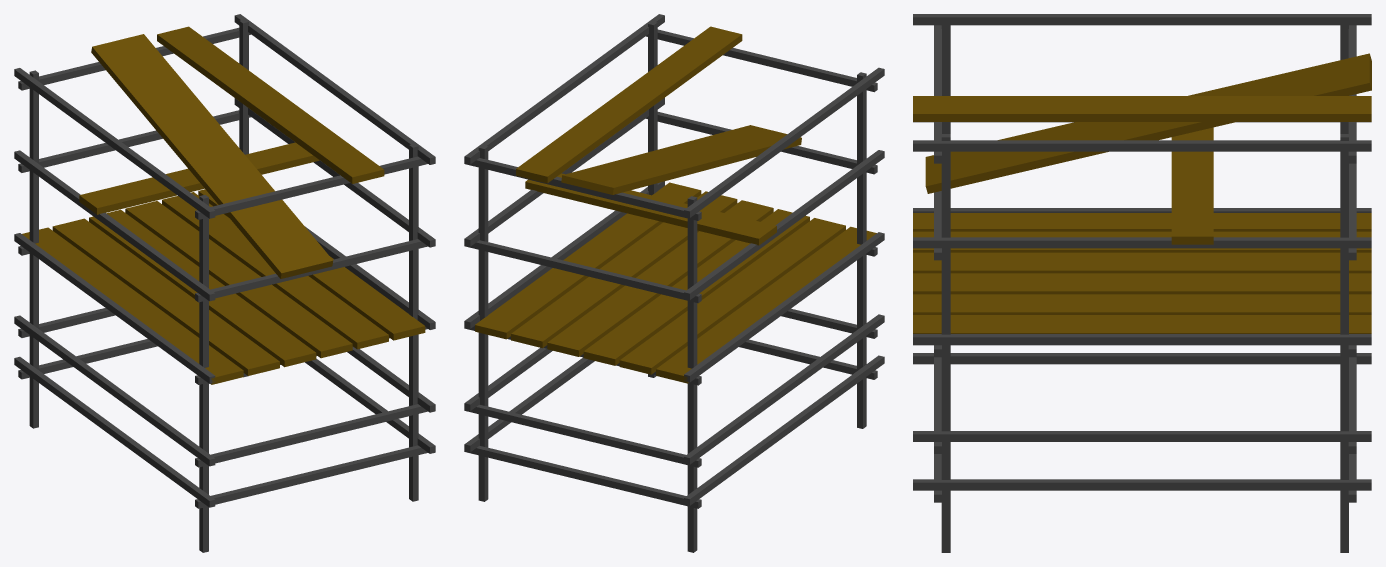
The model's file is ConstructionSite.fbx.
3 views of the same model, side by side, from view 1: azimuth 30°, elevation 25°; view 2: azimuth 150°, elevation 25°; view 3: azimuth 270°, elevation 25° (orthographic). The views are drawn at different scales.
Visible parts, largest first — view 1: pCube97, pCube103, pCube108, pCube106, pCube105, pCube107, pCube109, pCube98, pCube104, pCube93, pCube95, pCube92 (+19 smaller); view 2: pCube103, pCube108, pCube97, pCube104, pCube105, pCube106, pCube107, pCube109, pCube98, pCube94, pCube95, pCube92 (+19 smaller); view 3: pCube103, pCube97, pCube106, pCube107, pCube105, pCube104, pCube109, pCube79, pCube91, pCube63, pCube62, pCube71 (+13 smaller).
Boxes of the visible parts, x1,y1,x2,y2 form: pCube97: (91,34,333,278); pCube103: (157,26,384,183); pCube108: (52,218,279,375); pCube106: (125,201,352,358); pCube105: (162,192,388,349); pCube107: (89,209,316,367); pCube109: (22,227,243,384); pCube98: (79,142,319,214); pCube104: (198,189,425,340); pCube93: (409,143,418,501); pCube95: (29,70,38,428); pCube92: (199,195,208,552); pCube103: (516,26,742,183); pCube108: (619,218,845,374); pCube97: (561,125,801,194); pCube104: (475,182,701,339); pCube105: (511,191,737,348); pCube106: (547,200,773,356); pCube107: (583,209,809,365); pCube109: (656,226,876,383); pCube98: (525,173,776,245); pCube94: (478,145,488,501); pCube95: (687,196,697,552); pCube92: (857,72,866,428); pCube103: (913,96,1371,121); pCube97: (925,53,1371,193); pCube106: (913,273,1371,294); pCube107: (913,252,1371,273); pCube105: (913,294,1371,314); pCube104: (913,315,1371,333); pCube109: (913,213,1371,231); pCube79: (913,334,1371,345); pCube91: (913,479,1371,490); pCube63: (913,140,1371,151); pCube62: (913,14,1371,25); pCube71: (913,237,1371,248).
Bounding box in the file's own units: 1376 × 1991 × 1985.
